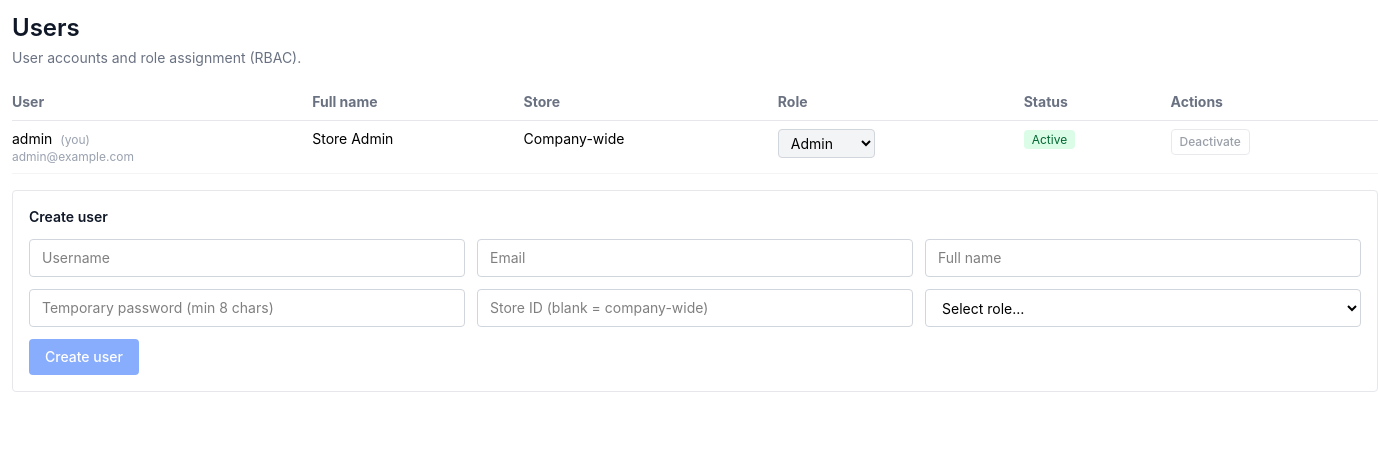
Test: UsersPage › creates a new user against the real API contract
Check: the heading "Users" is shown, box [12,13,80,42]
Check: the text "admin" is shown, box [12,130,52,147]
Type "newclerk" into the field with placeholder "Username".
click(247, 258); type("newclerk")  # box [29,239,465,277]
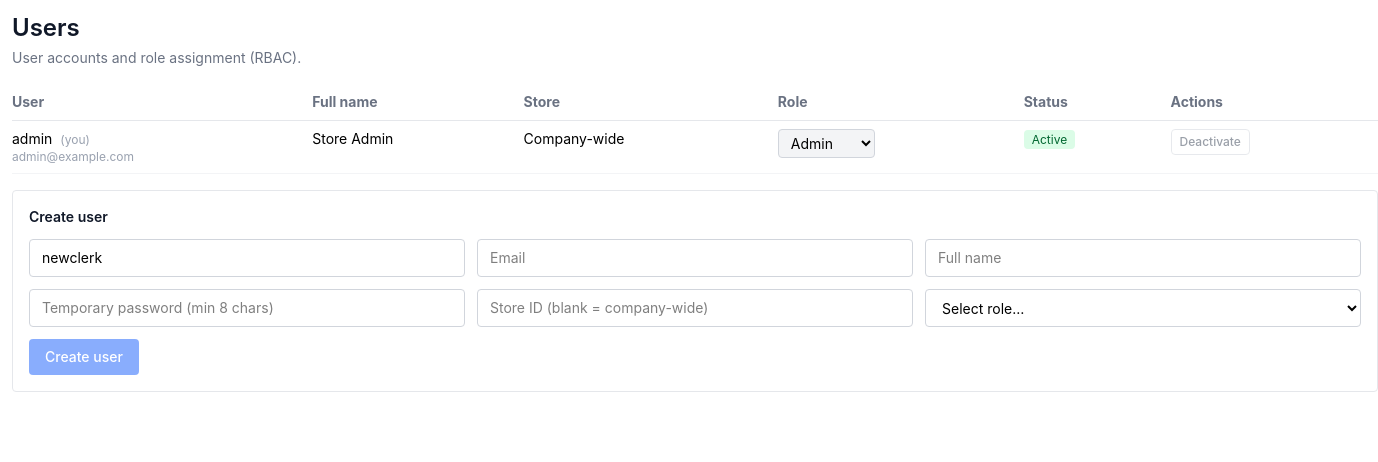
Type "newclerk@example.com" into the field with placeholder "Email".
click(695, 258); type("newclerk@example.com")  # box [477,239,913,277]
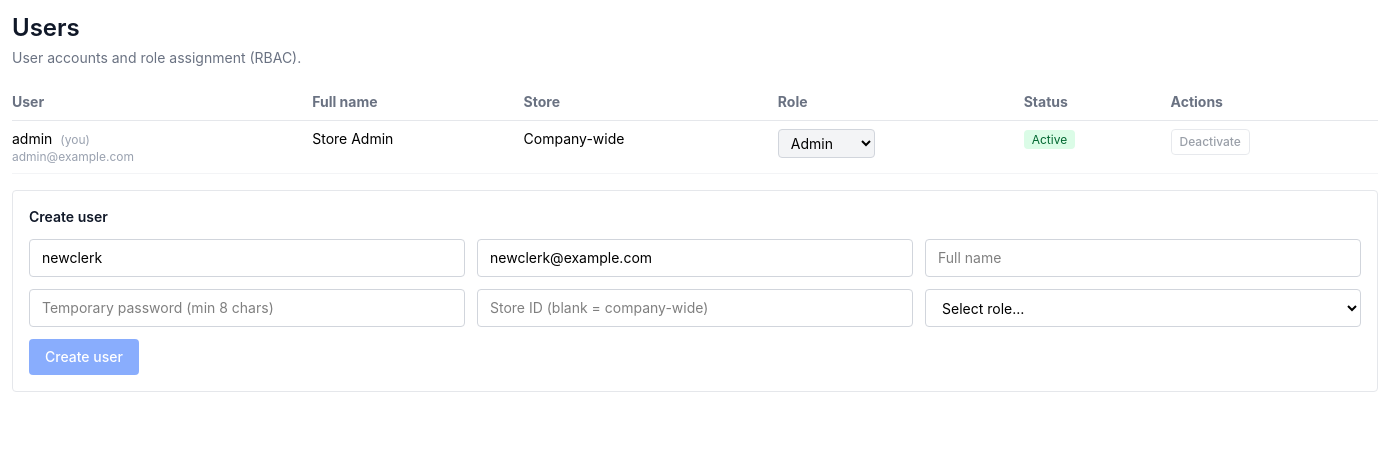
Type "a-strong-password-1" into the password field with placeholder "Temporary password (min 8 chars)".
click(247, 308); type("a-strong-password-1")  # box [29,289,465,327]
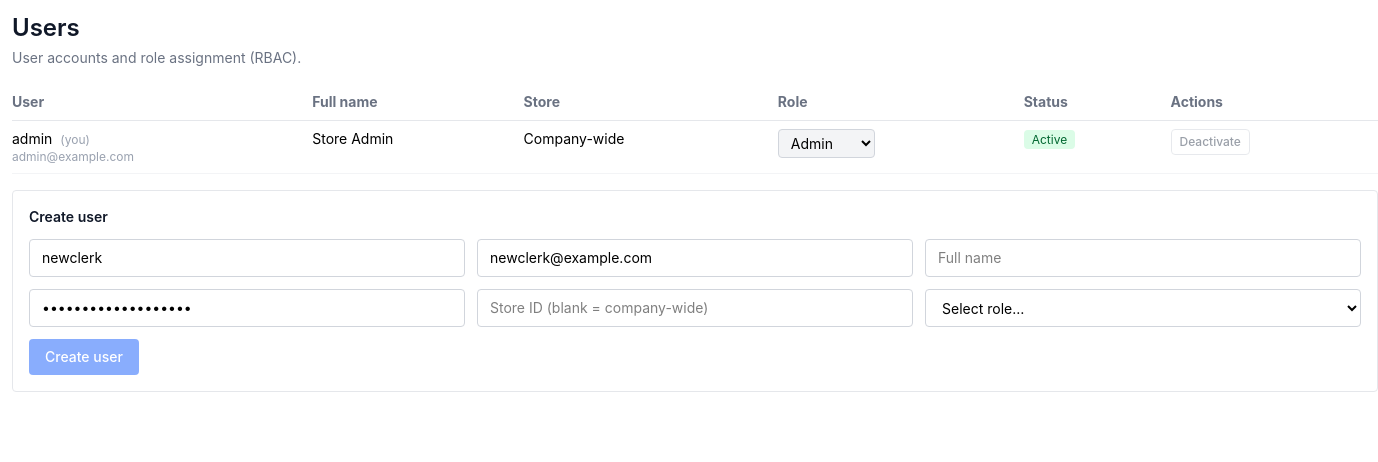
Type "7" into the number field with placeholder "Store ID (blank = company-wide)".
click(695, 308); type("7")  # box [477,289,913,327]
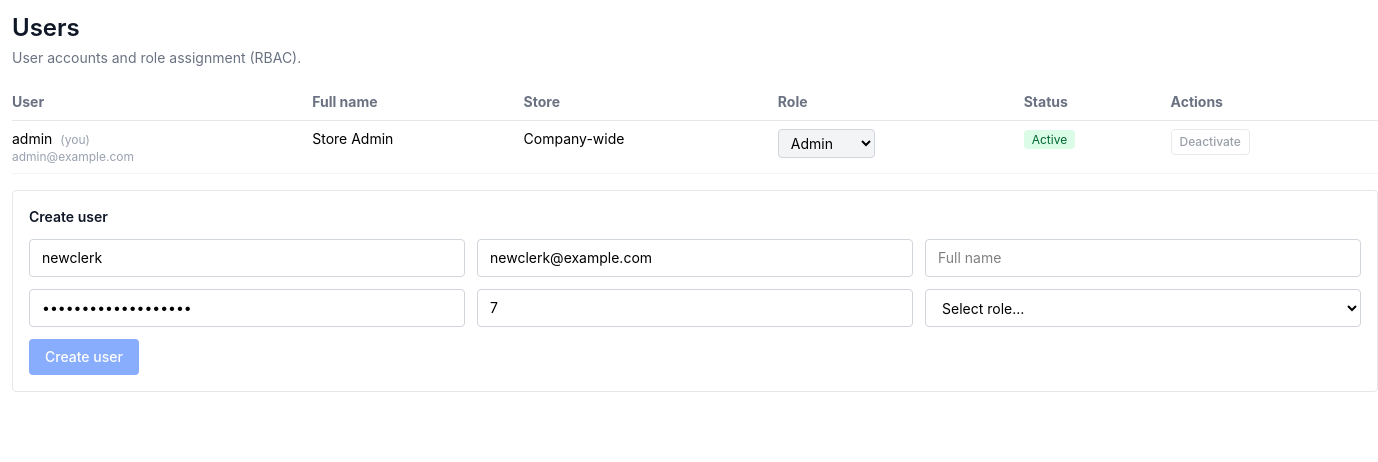
Select "Cashier" in the 2nd dropdown showing "Select role…" at (1143, 308), box [925,289,1361,327]
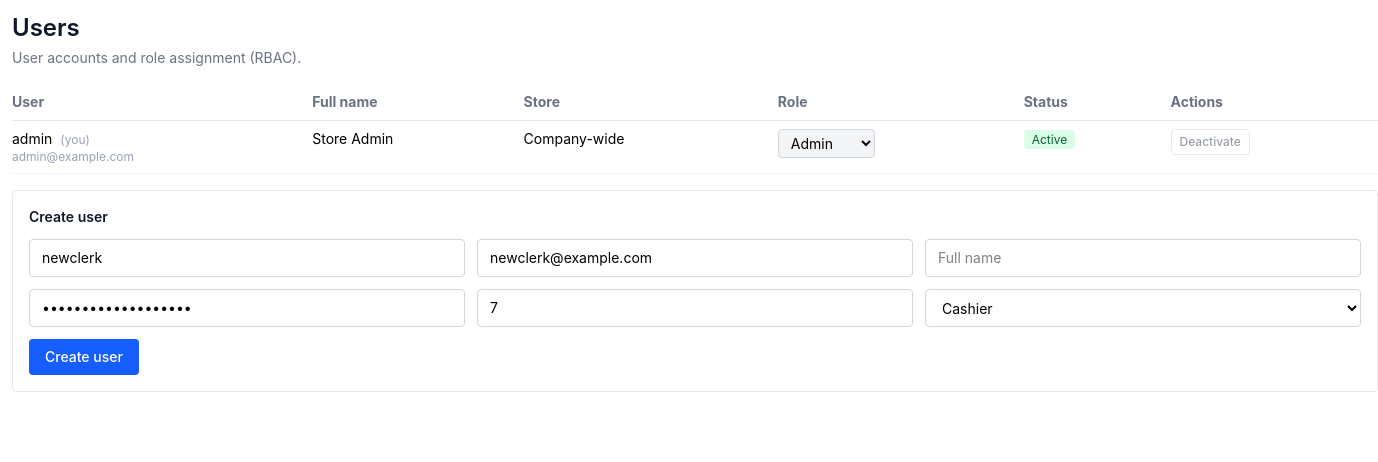
Click the button "Create user".
click(84, 357)  # box [29,339,139,375]
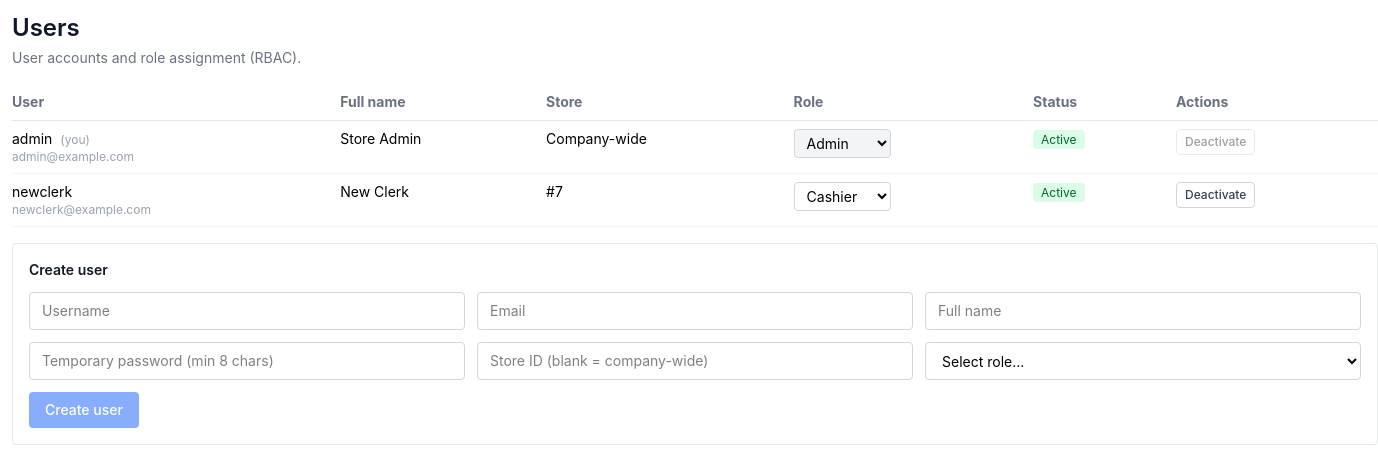
Check: the text "newclerk" is shown, box [12,183,72,200]
